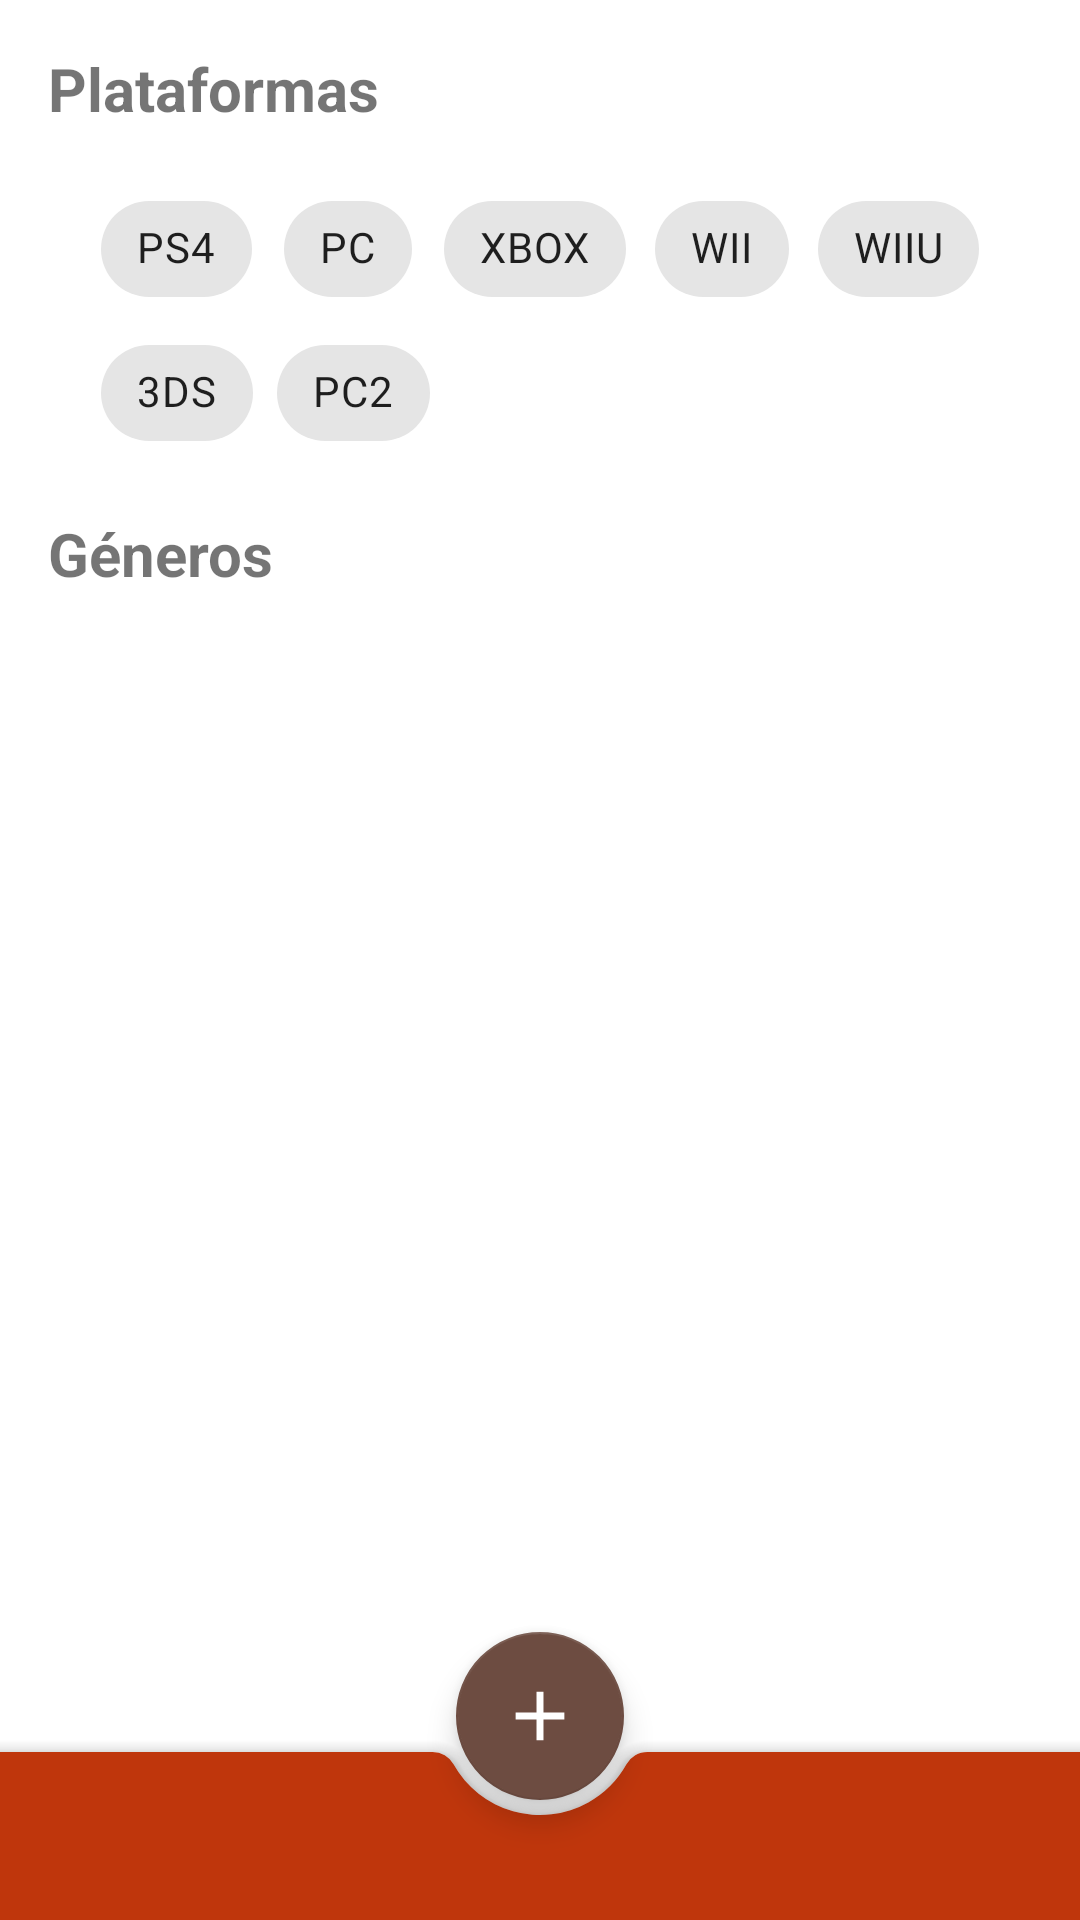

Named icons in this screenshot (1080px×1920px) and their centers, [x,y]:
add: [540,1752]
